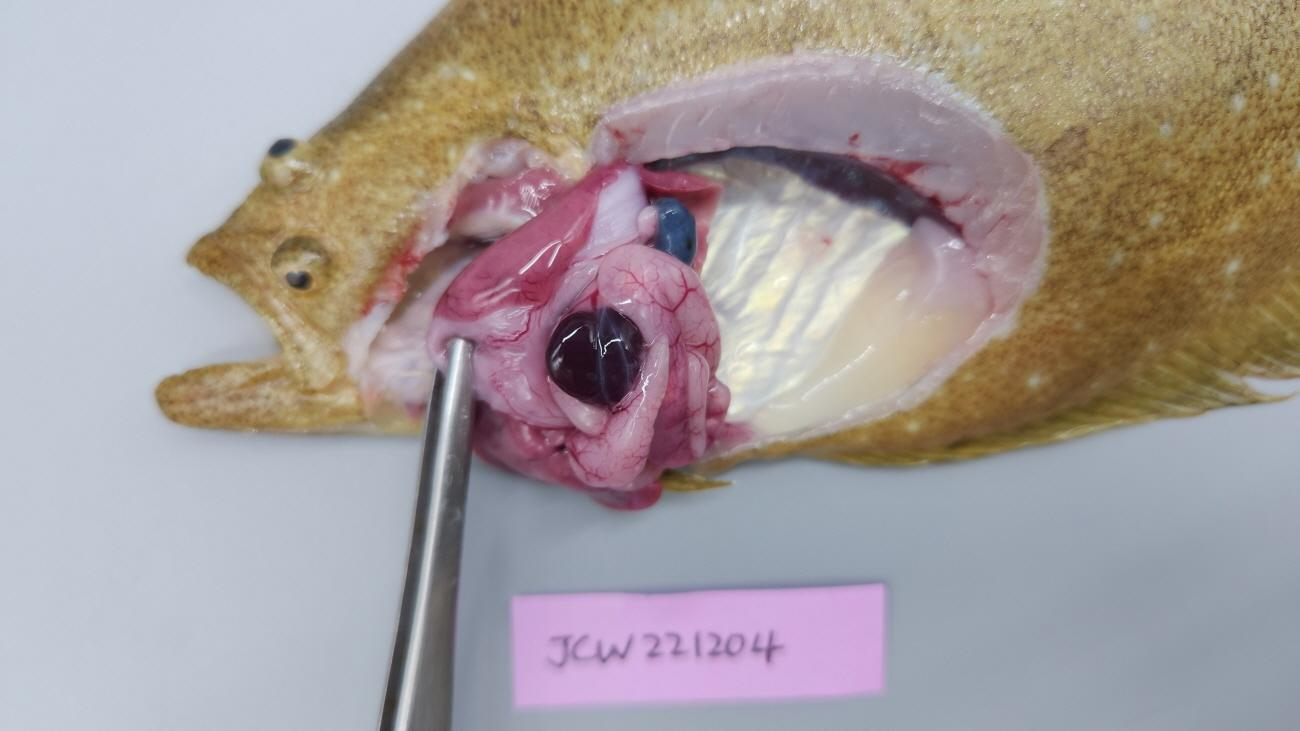SPSPE: (545, 306, 642, 409)
